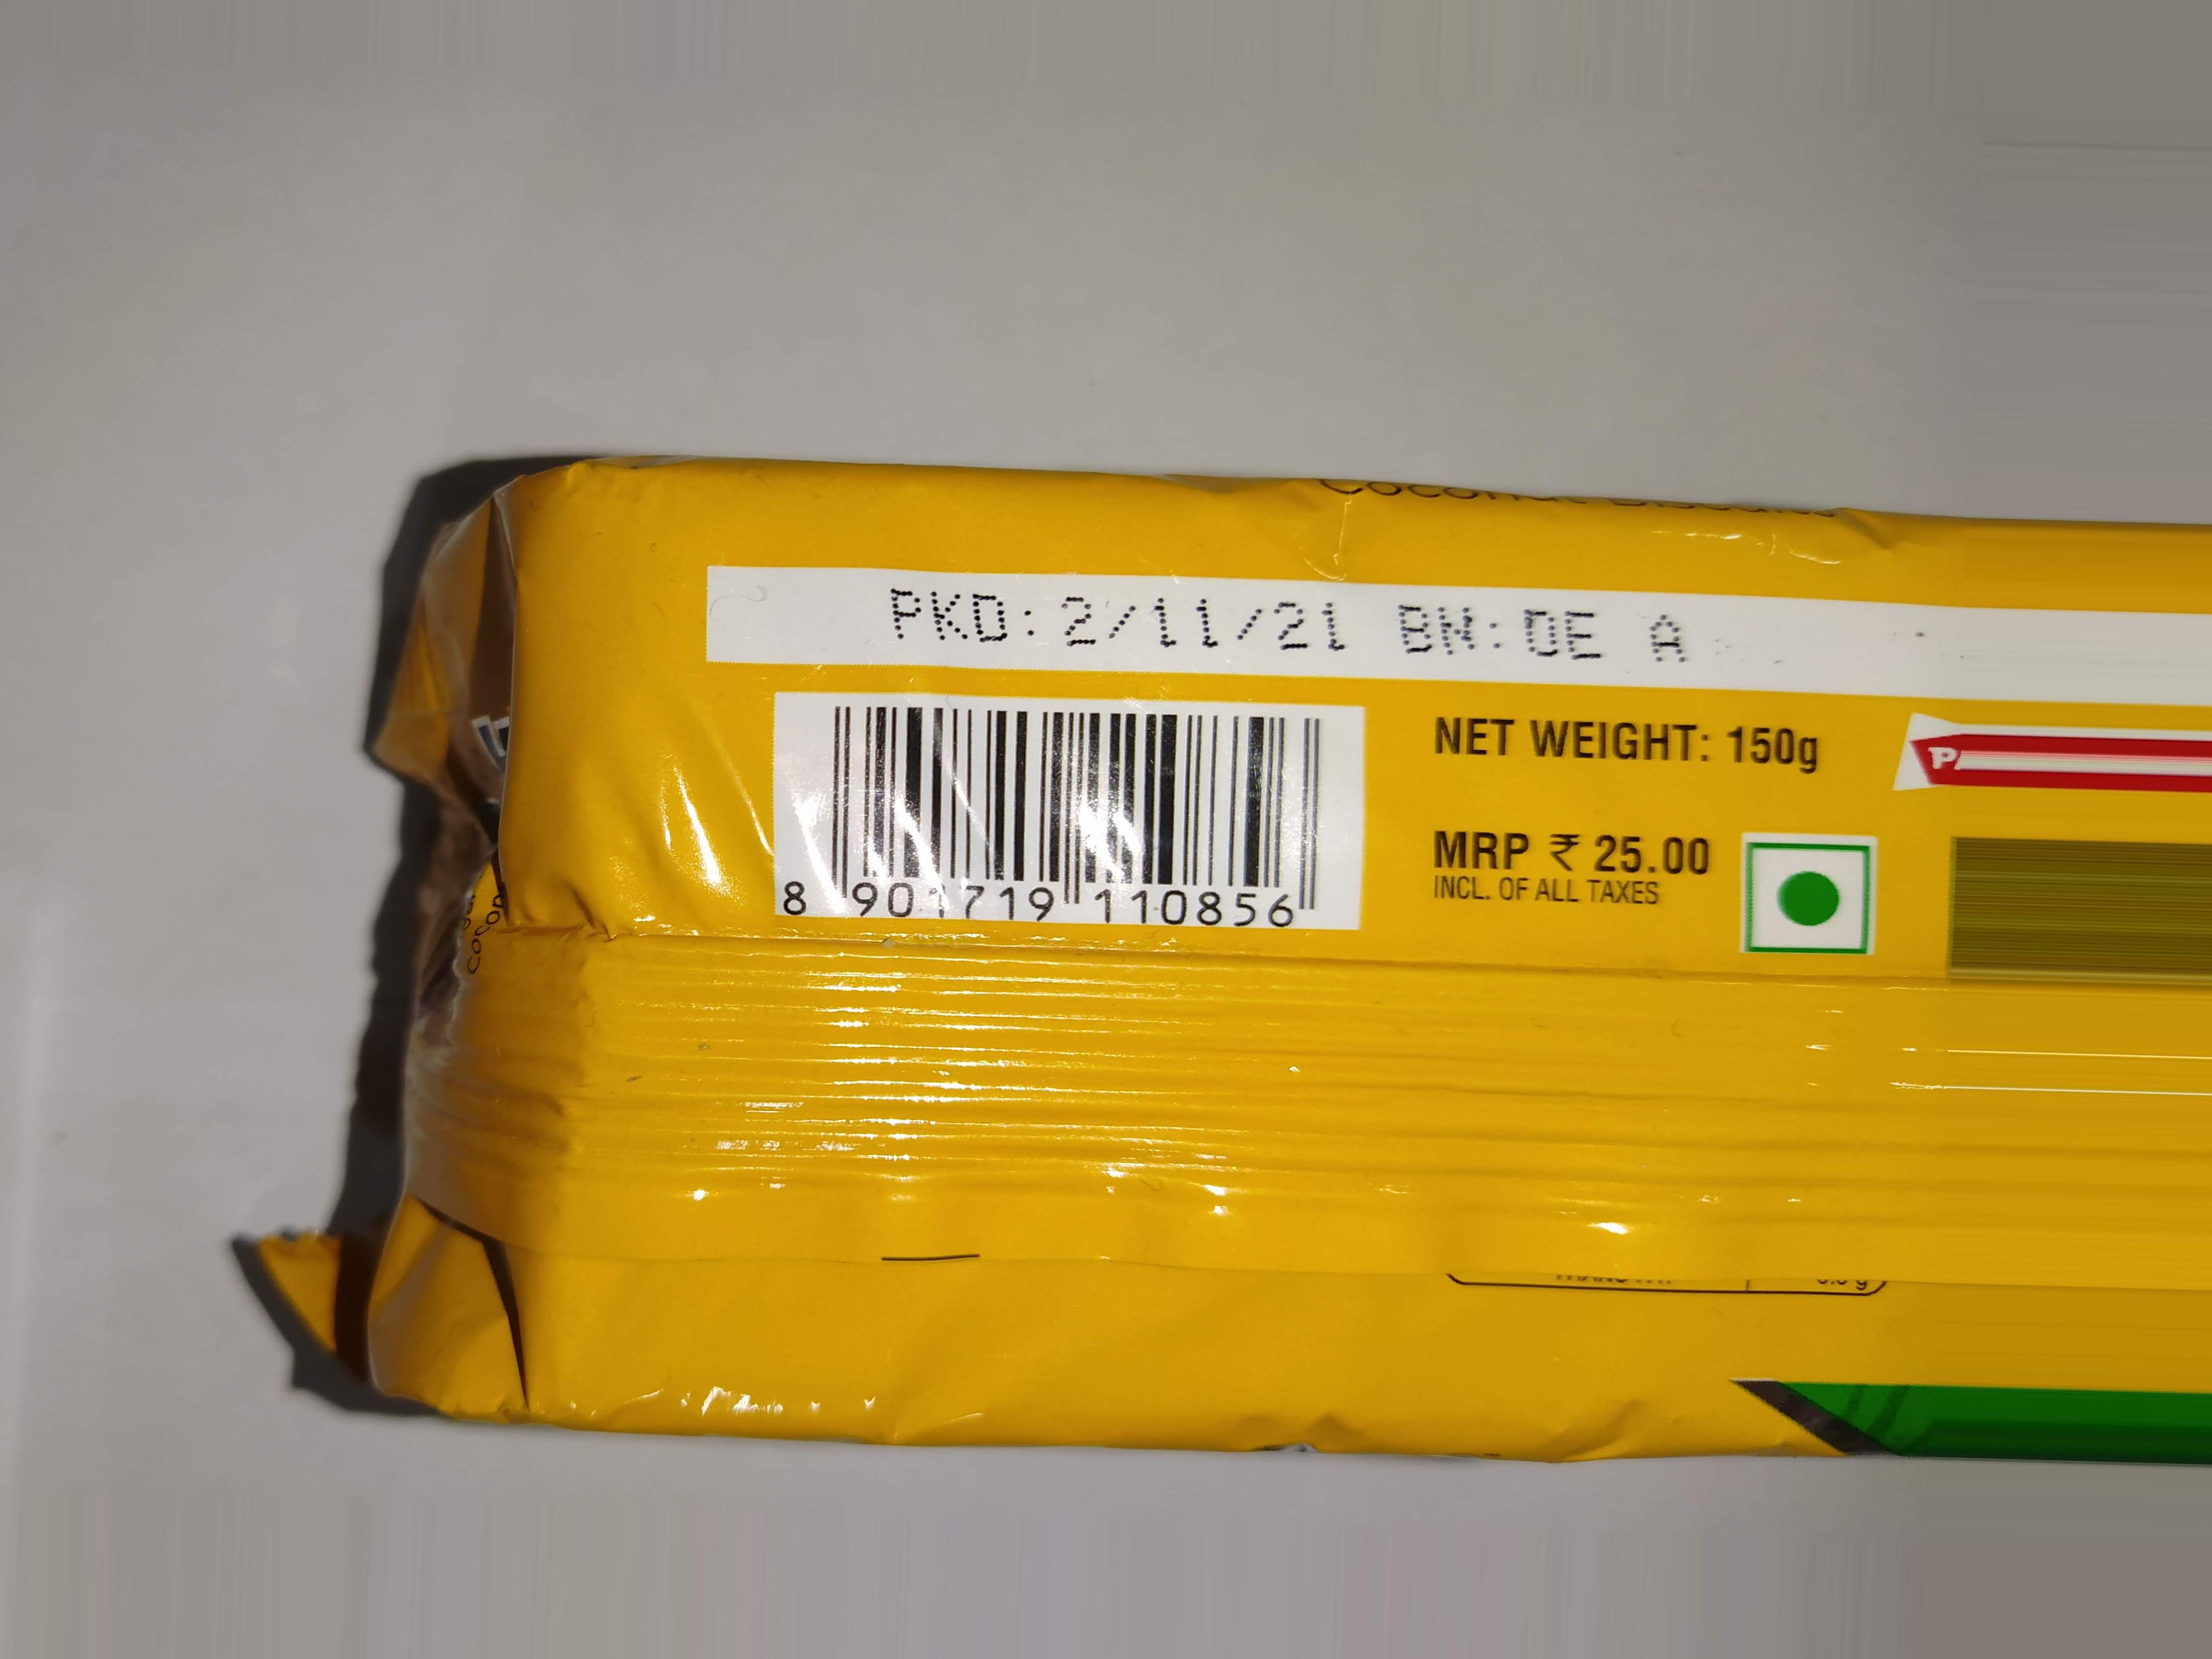Bar_code: (737, 674, 1371, 958)
Item: (258, 366, 2212, 1535)
